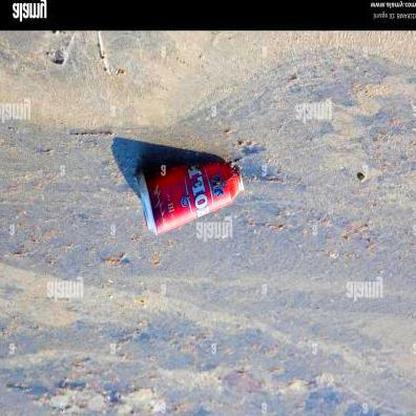can: (138, 160, 245, 235)
